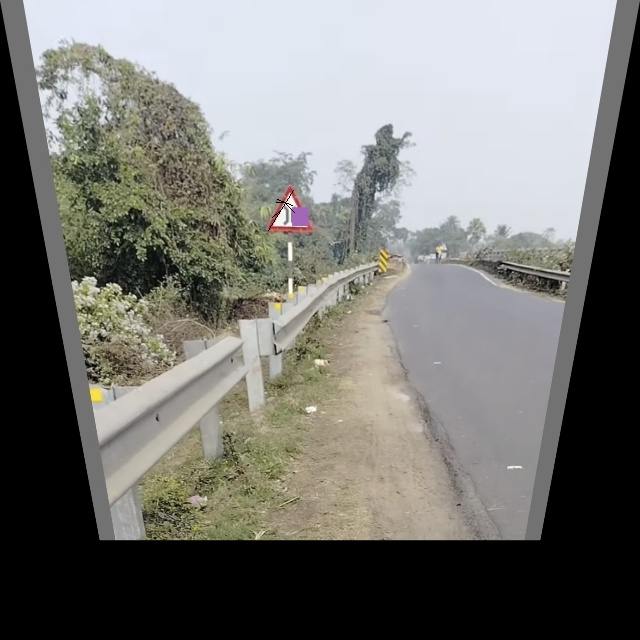Narrow_Bridge: (267, 186, 315, 235)
